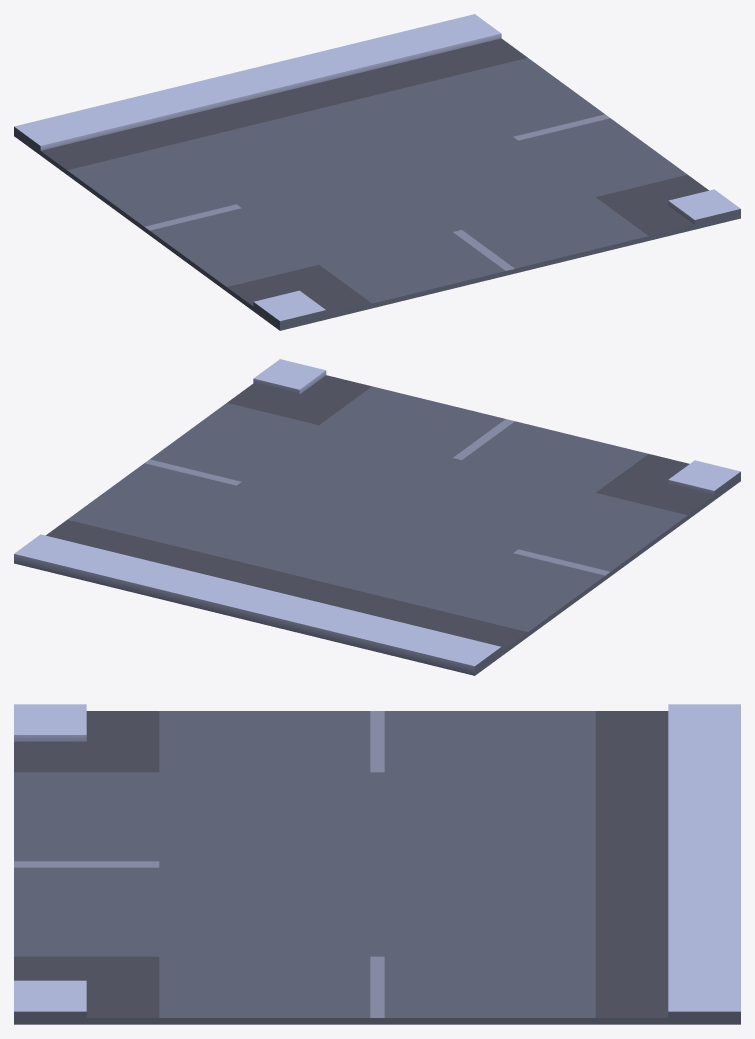
Rendered from road-intersection.glb.
The picture shows the model from 3 angles, top to bottom: view 1: azimuth 30°, elevation 25°; view 2: azimuth 150°, elevation 25°; view 3: azimuth 270°, elevation 25°; orthographic projection. The views are drawn at different scales.
Visible parts, largest first — view 1: road-intersection; view 2: road-intersection; view 3: road-intersection.
Part boxes in pixels (bbox=[...]): road-intersection: bbox=[14, 14, 740, 330]; road-intersection: bbox=[14, 359, 740, 675]; road-intersection: bbox=[14, 704, 740, 1024].
Bounding box in the file's own units: 1 × 0.02 × 1.
1 material, 1 textured.
